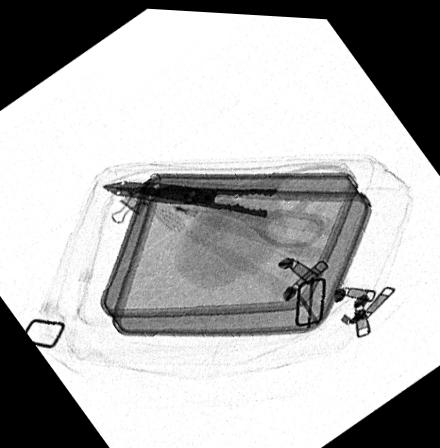Scissors: (99, 159, 356, 244)
